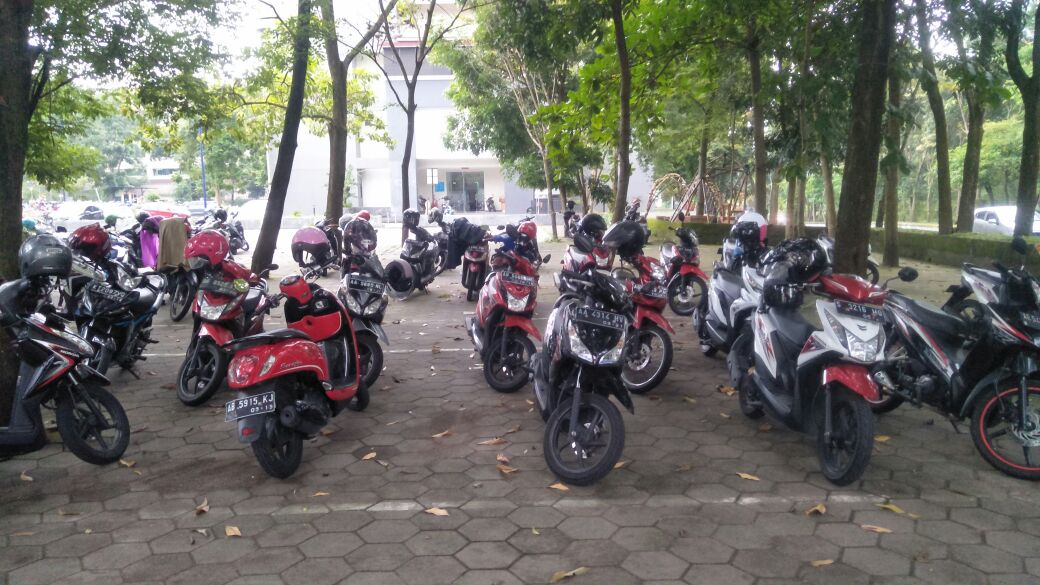plate: (834, 295, 888, 322), (223, 390, 278, 415), (570, 306, 624, 330), (348, 276, 387, 297), (500, 270, 538, 286)
